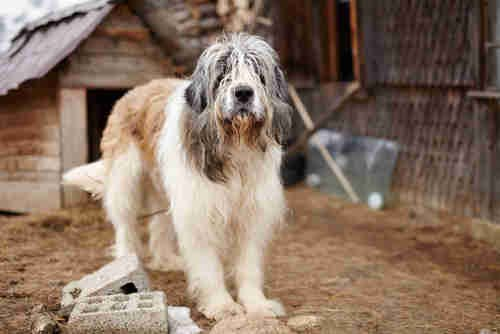dog: (75, 27, 291, 312)
